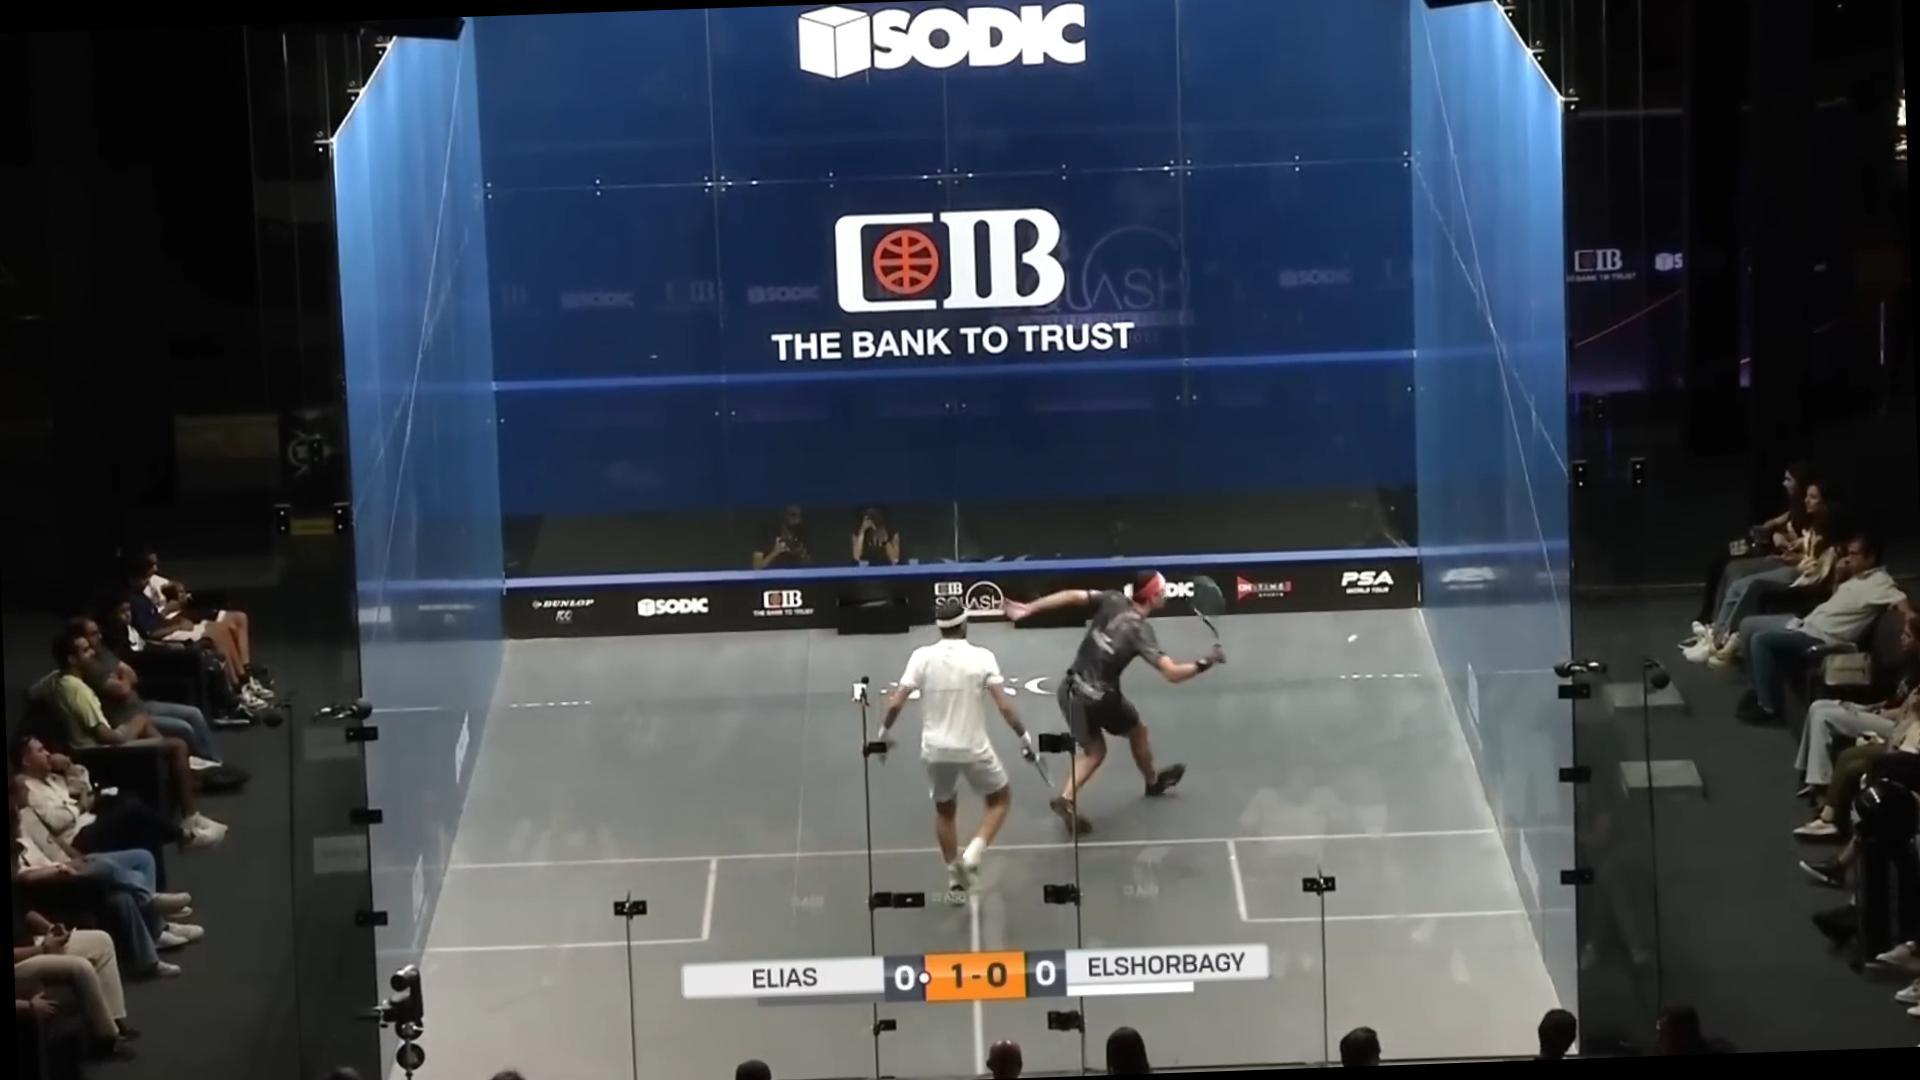Squash-Ball: (1338, 628, 1364, 650)
